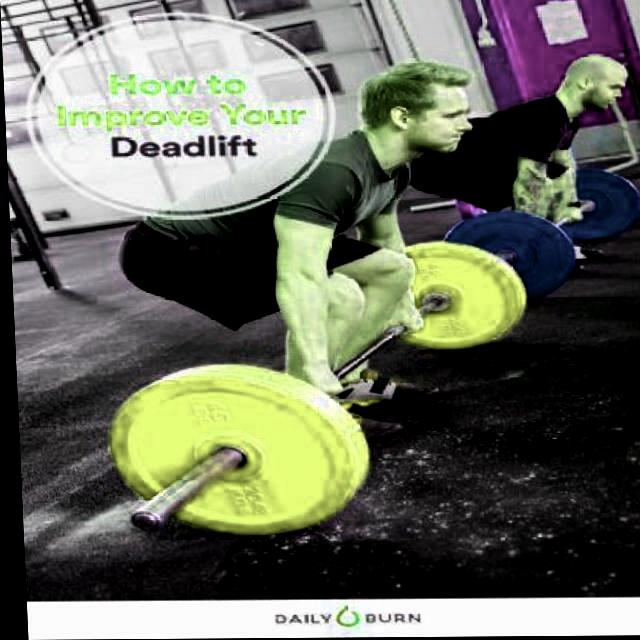barbell: (98, 367, 357, 535)
